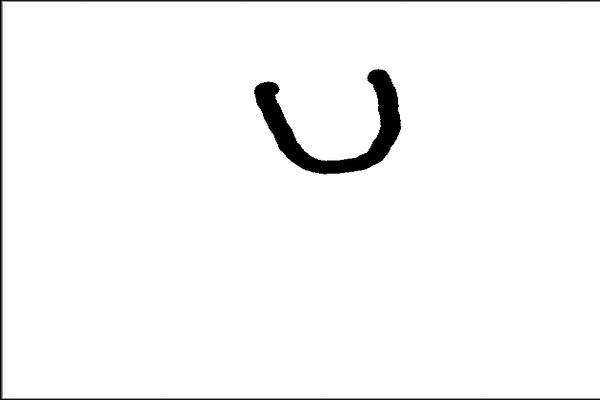U: (253, 50, 419, 182)
